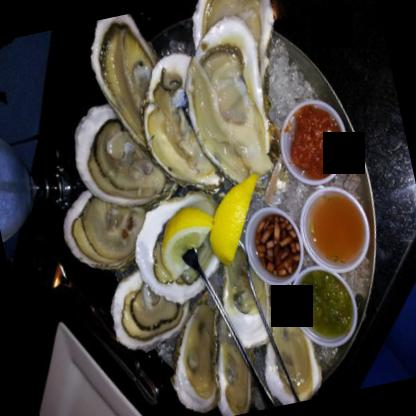oyster: (173, 15, 286, 186), (131, 43, 225, 191), (62, 88, 174, 212), (85, 10, 174, 155), (58, 174, 158, 272), (156, 298, 237, 415), (250, 294, 328, 406), (104, 264, 194, 351), (211, 232, 277, 350), (184, 0, 286, 61), (201, 316, 260, 415)
